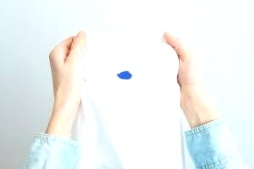ink: (116, 71, 133, 79)
